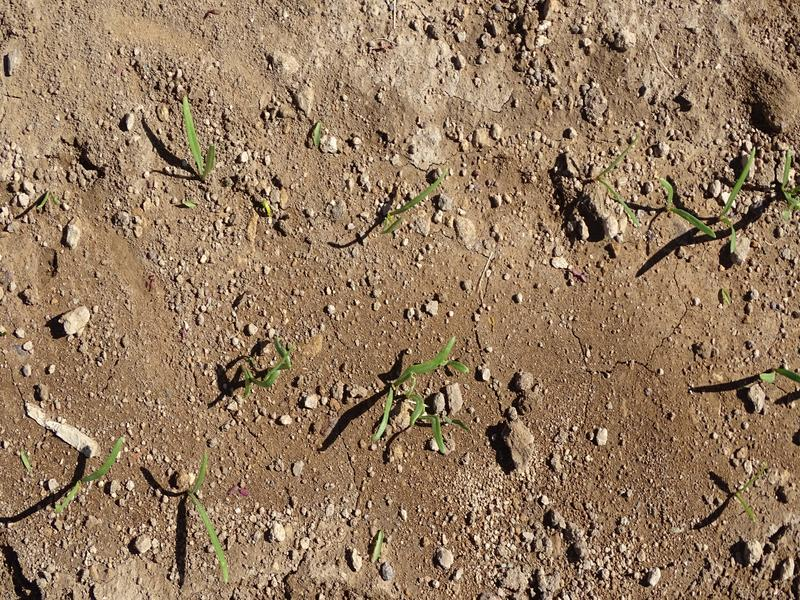Espinaca: (579, 155, 797, 234), (374, 350, 469, 451), (178, 448, 242, 582), (49, 435, 127, 509), (170, 94, 226, 182), (385, 170, 452, 235), (231, 336, 302, 390)
